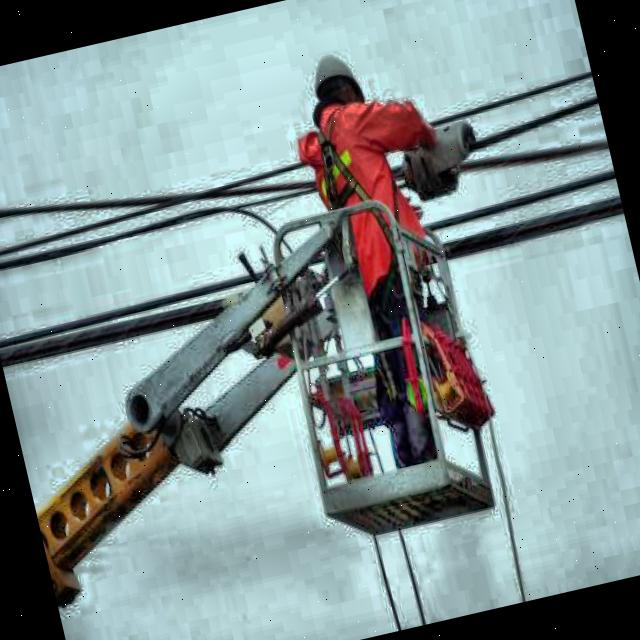helmet: (300, 41, 376, 145)
